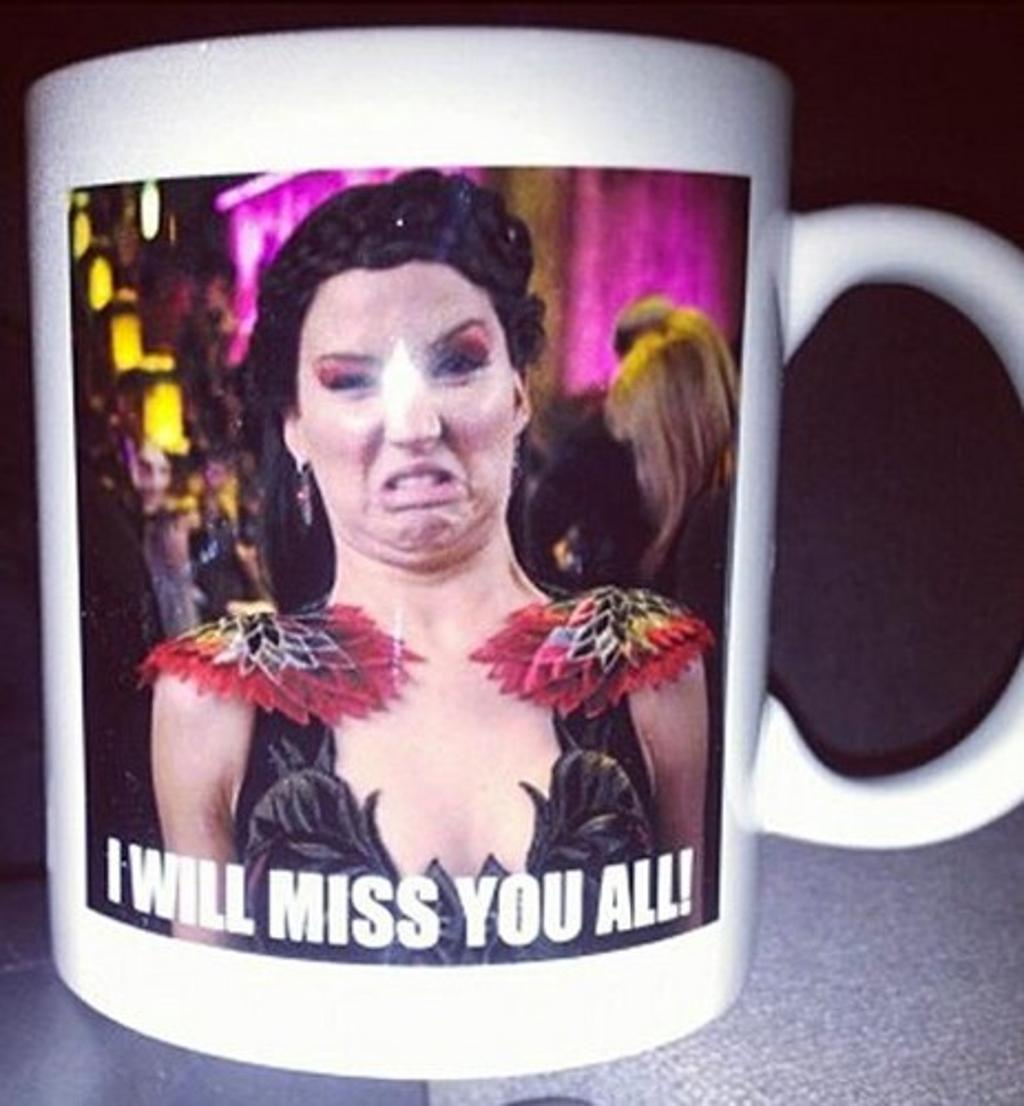face: (296, 268, 514, 549)
